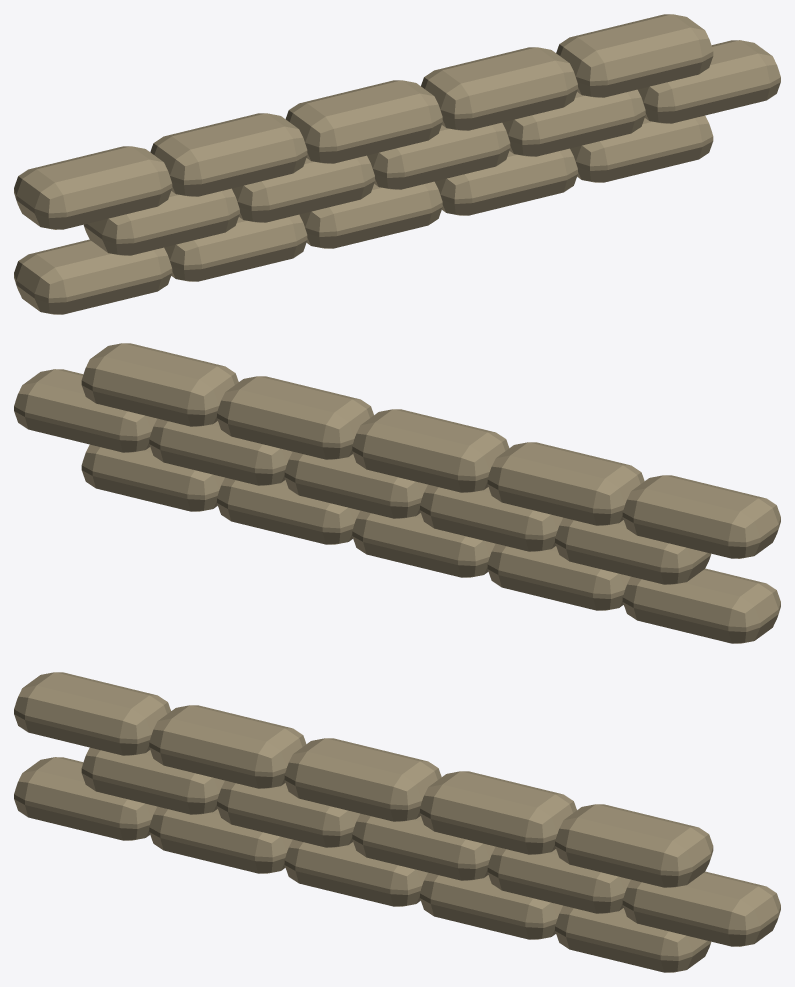
Rendered from Prop_SandbagWall.fbx.
3 views of the same model, one above another, from view 1: azimuth 30°, elevation 25°; view 2: azimuth 150°, elevation 25°; view 3: azimuth 330°, elevation 25° (orthographic).
Visible parts, largest first — view 1: Prop_SandbagWall_Mesh; view 2: Prop_SandbagWall_Mesh; view 3: Prop_SandbagWall_Mesh.
Part boxes in pixels (left/top/right/bottom): Prop_SandbagWall_Mesh: left=14, top=14, right=780, bottom=314; Prop_SandbagWall_Mesh: left=14, top=343, right=780, bottom=643; Prop_SandbagWall_Mesh: left=14, top=672, right=780, bottom=972.
Bounding box in the file's own units: 3.3 × 0.56 × 0.32.
